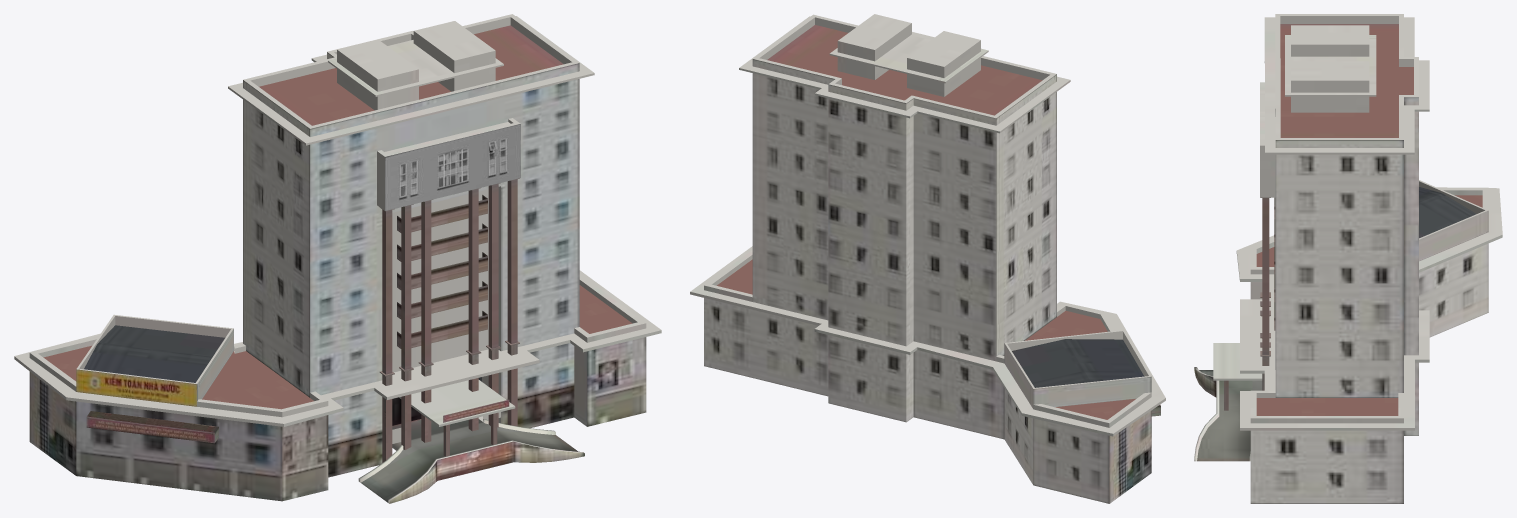
3 views of the same model, side by side, from view 1: azimuth 30°, elevation 25°; view 2: azimuth 150°, elevation 25°; view 3: azimuth 270°, elevation 25° (orthographic). The views are drawn at different scales.
Visible parts, largest first — view 1: HN458___Kiem_toan_nha_nuoc; view 2: HN458___Kiem_toan_nha_nuoc; view 3: HN458___Kiem_toan_nha_nuoc.
Boxes of the visible parts, x1,y1,x2,y2 form: HN458___Kiem_toan_nha_nuoc: (14,14,661,503); HN458___Kiem_toan_nha_nuoc: (690,14,1165,503); HN458___Kiem_toan_nha_nuoc: (1194,14,1502,503).
Bounding box in the file's own units: 81.57 × 57.2 × 44.11.
1 material, 1 textured.
